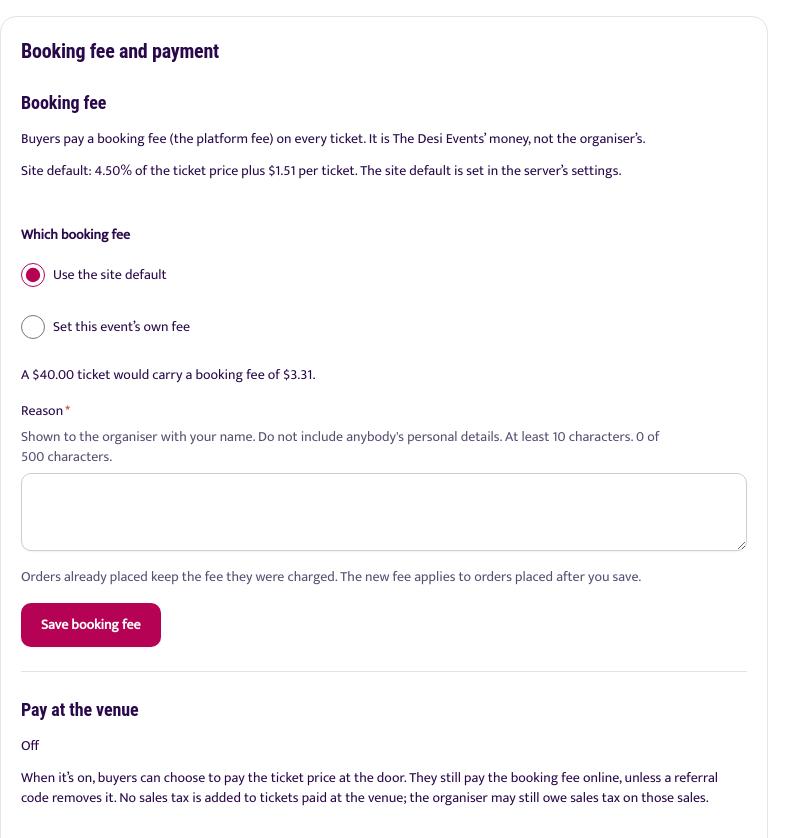
Scenario: the booking fee › puts every problem in a summary that takes focus, and under each field
Click the radio button labelled "Set this event’s own fee": {"x": 33, "y": 327} [21,315,45,339]
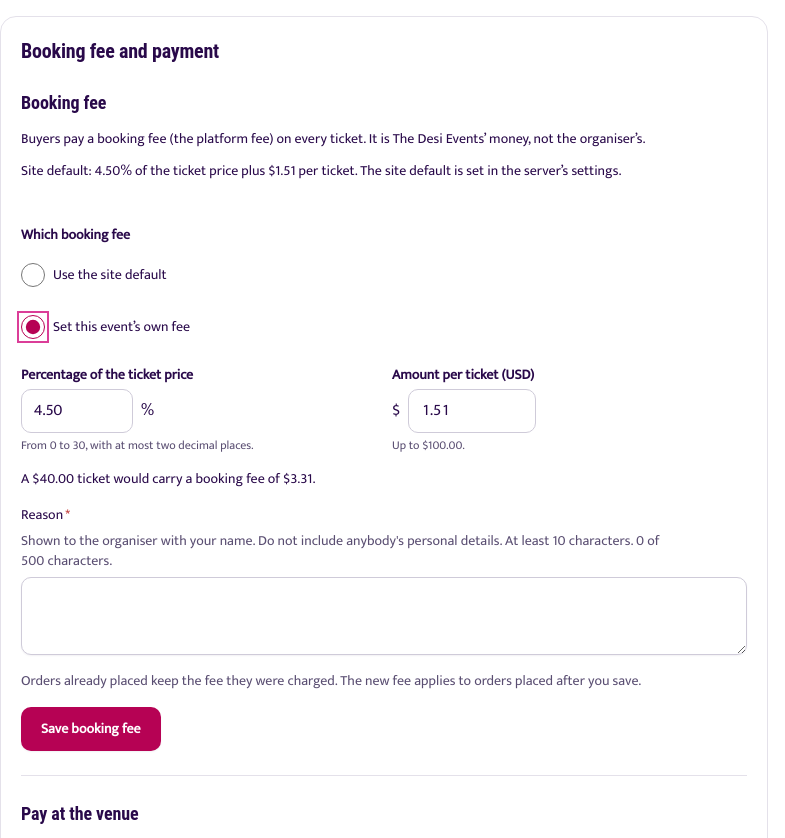
Replace the text in the field labelled "Percentage of the ticket price" with "31": {"x": 77, "y": 411} [21,389,133,433]
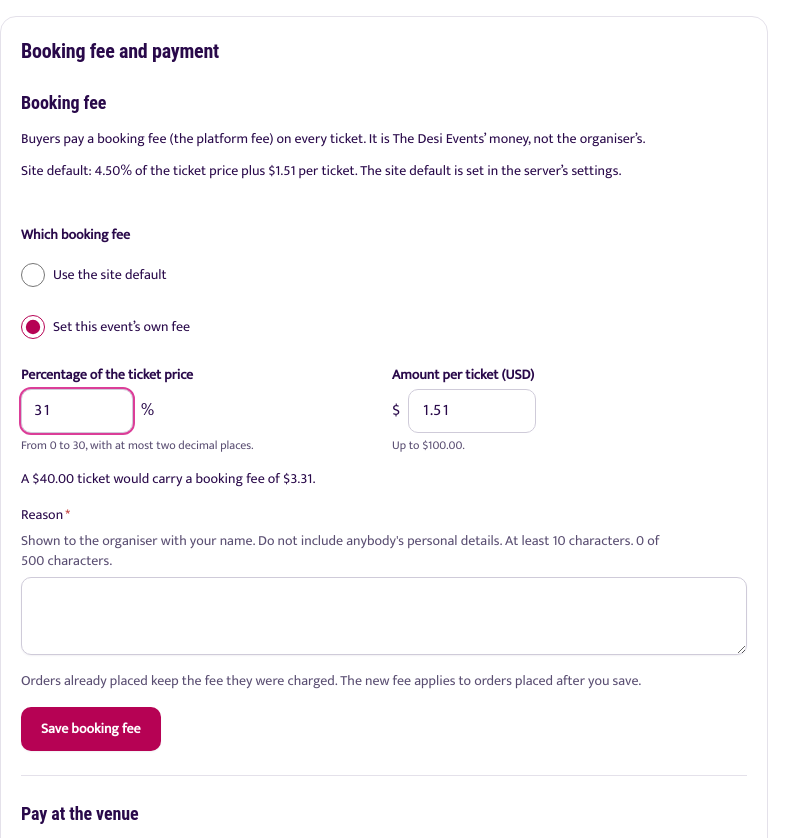
Replace the text in the field labelled "Amount per ticket (USD)" with "100.01": {"x": 472, "y": 411} [408,389,536,433]
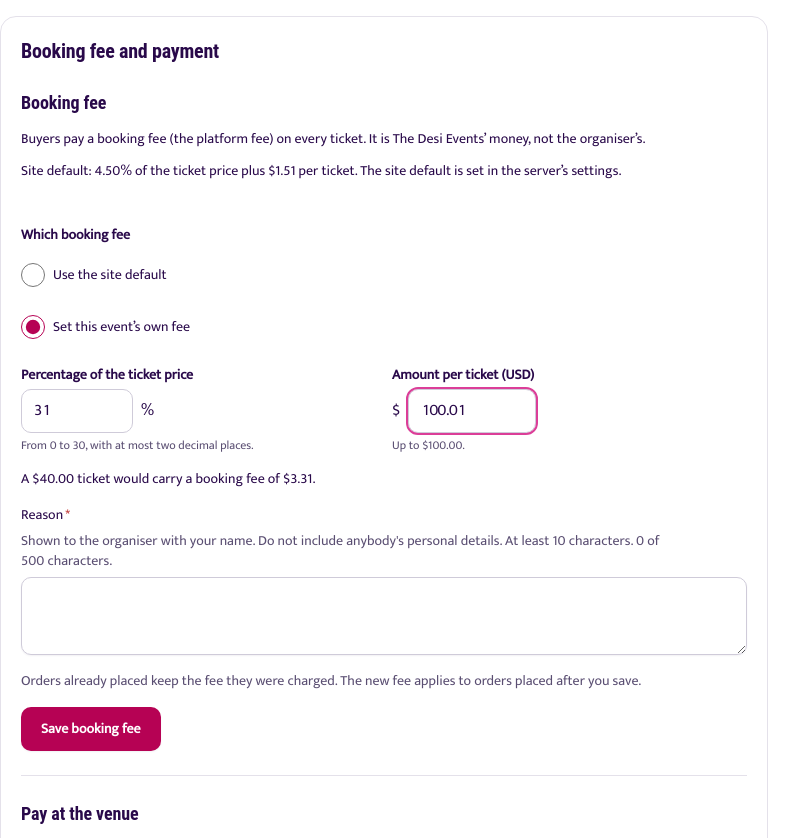
Click the button "Save booking fee": {"x": 91, "y": 729} [21,707,161,751]
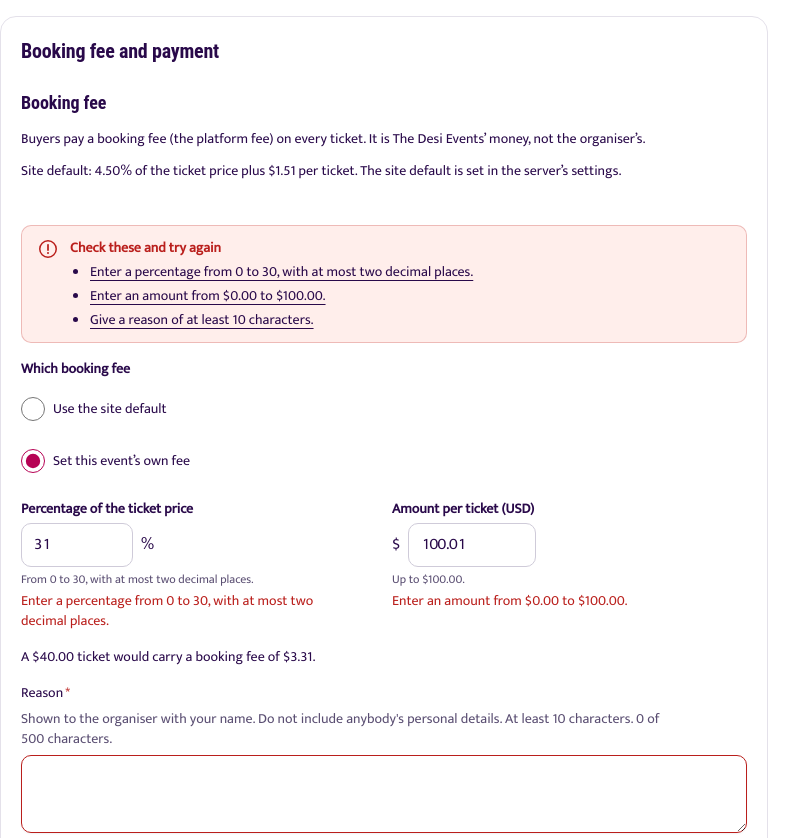
Result: the link "Enter a percentage from 0 to 30, with at most two decimal places." is shown at [90,260,473,283]
Result: the link "Enter an amount from $0.00 to $100.00." is shown at [90,284,326,307]
Result: the link "Give a reason of at least 10 characters." is shown at [90,308,314,331]
